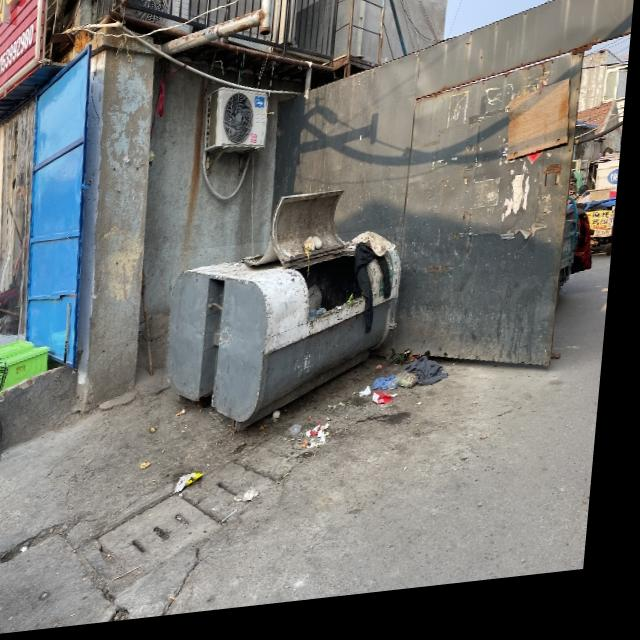garbage: (365, 358, 457, 416), (277, 409, 353, 460), (182, 476, 212, 497)
overflow: (167, 236, 411, 444)
